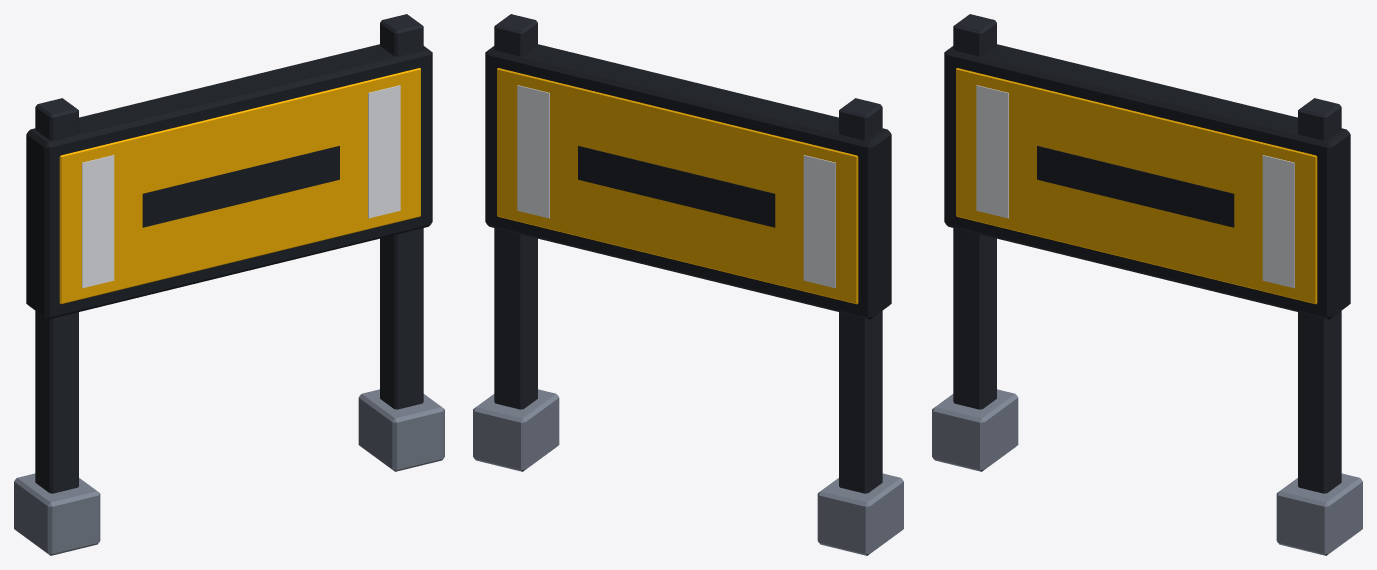
The model's file is City_Obs_SignGate.fbx.
The picture shows the model from 3 angles, left to right: view 1: azimuth 30°, elevation 25°; view 2: azimuth 150°, elevation 25°; view 3: azimuth 330°, elevation 25°; orthographic projection.
Visible parts, largest first — view 1: City_Obs_SignGate; view 2: City_Obs_SignGate; view 3: City_Obs_SignGate.
Boxes of the visible parts, x1=… form: City_Obs_SignGate: x1=14, y1=14, x2=444, y2=555; City_Obs_SignGate: x1=473, y1=14, x2=903, y2=555; City_Obs_SignGate: x1=932, y1=14, x2=1362, y2=555.
Bounding box in the file's own units: 2.72 × 2.83 × 0.44.
